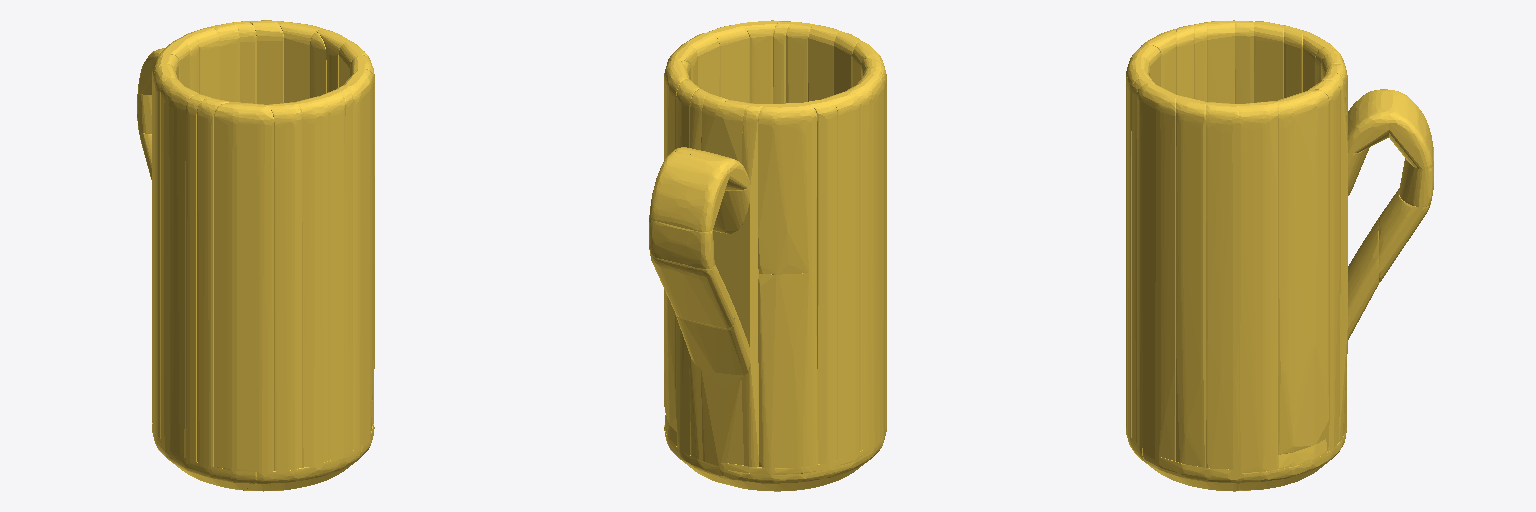
robot.urdf — 832.urdf:
<?xml version="1.0" ?>
<robot name="832.urdf">
	<link name="baseLink">
		<inertial>
			<origin rpy="0 0 0" xyz="0 0 0"/>
				<mass value="0.1"/>
				<inertia ixx="6e-5" ixy="0" ixz="0" iyy="6e-5" iyz="0" izz="6e-5"/>
		</inertial>
		<visual>
			<origin rpy="0 0 0" xyz="0 0 0"/>
			<geometry>
				<mesh filename="45_decom_wt.obj" scale="0.88 0.88 1.13"/>
			</geometry>
			<material name="yellow">
				<color rgba="0.98 0.84 0.35 1"/>
			</material>
		</visual>
		<collision>
			<origin rpy="0 0 0" xyz="0 0 0"/>
			<geometry>
				<mesh filename="45_decom_wt.obj" scale="0.88 0.88 1.13"/>
			</geometry>
		</collision>
	</link>
</robot>

--- Facts derived from the render (not from the file) ---
Views: 3 orthographic renders of the robot side by side, from view 1: azimuth 30°, elevation 25°; view 2: azimuth 150°, elevation 25°; view 3: azimuth 270°, elevation 25°.
Model 832.urdf with 1 links and 0 joints (none), rooted at baseLink, posed all joints at 0.
Visible links, largest first — view 1: baseLink; view 2: baseLink; view 3: baseLink.
Boxes of the visible links, left/top/right/bottom form: baseLink: left=137, top=20, right=374, bottom=491; baseLink: left=649, top=20, right=886, bottom=491; baseLink: left=1126, top=20, right=1433, bottom=491.
Size in the robot's own frame: 0.0779 by 0.1084 by 0.1514 metres.
Meshes: 1 distinct files referenced, 1 mesh visuals loaded (1 OBJ).